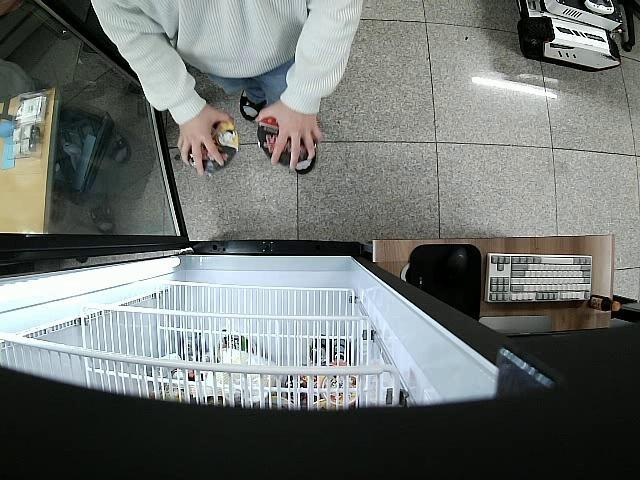07_buldak_L: (184, 116, 238, 173), (258, 117, 318, 166)
